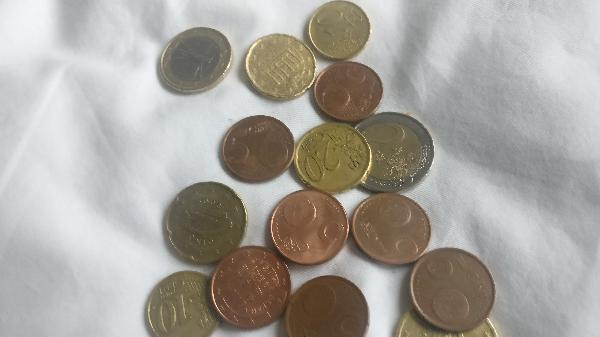Fifty Cent: (396, 299, 503, 337)
Five Cent: (407, 245, 503, 329), (212, 245, 291, 326), (268, 189, 347, 264), (286, 274, 371, 337), (220, 113, 295, 181), (355, 190, 432, 255), (309, 60, 384, 118)
One Euro: (157, 29, 234, 95)
Ten Cent: (142, 267, 222, 337), (305, 1, 377, 60)
Twenty Cent: (167, 181, 248, 263), (293, 123, 370, 192), (244, 32, 319, 100)
Two Euro: (347, 112, 442, 193)
